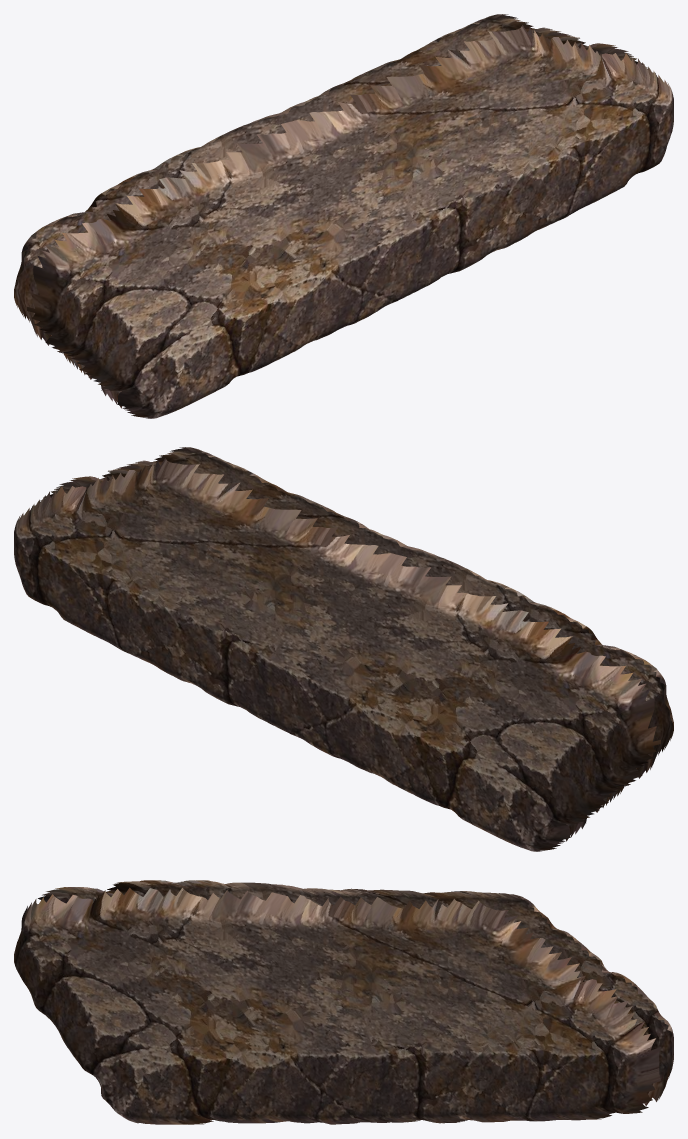
The model's file is v4-crypt-door-scatter-fallen-slab.glb.
3 renders of one model, top to bottom at view 1: azimuth 30°, elevation 25°; view 2: azimuth 150°, elevation 25°; view 3: azimuth 330°, elevation 25°, orthographic.
Parts seen in each view (by area): view 1: v4-crypt-door-scatter-fallen-slab; view 2: v4-crypt-door-scatter-fallen-slab; view 3: v4-crypt-door-scatter-fallen-slab.
Part boxes in pixels (x1,y1,x2,y2): v4-crypt-door-scatter-fallen-slab: [14, 14, 673, 418]; v4-crypt-door-scatter-fallen-slab: [14, 447, 673, 851]; v4-crypt-door-scatter-fallen-slab: [14, 880, 673, 1124].
Bounding box in the file's own units: 0.4793 × 0.214 × 0.0528.
Materials: 1 (1 with a texture image).
